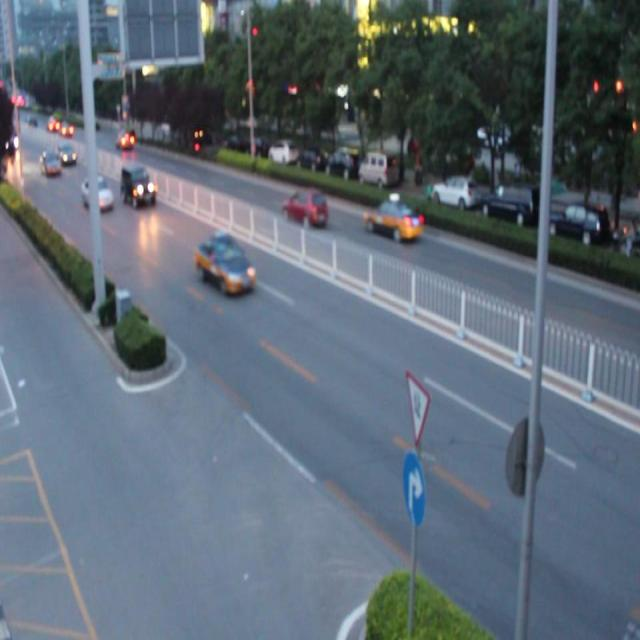car: (198, 237, 252, 294), (368, 202, 419, 238), (283, 191, 326, 227), (121, 166, 154, 201), (83, 180, 114, 209)
